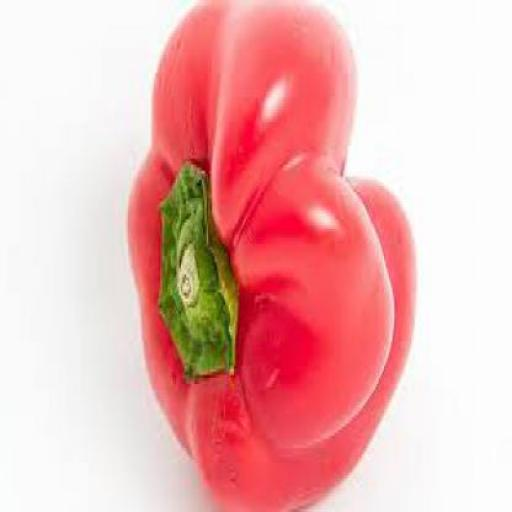biodegradable: (130, 0, 420, 510)
